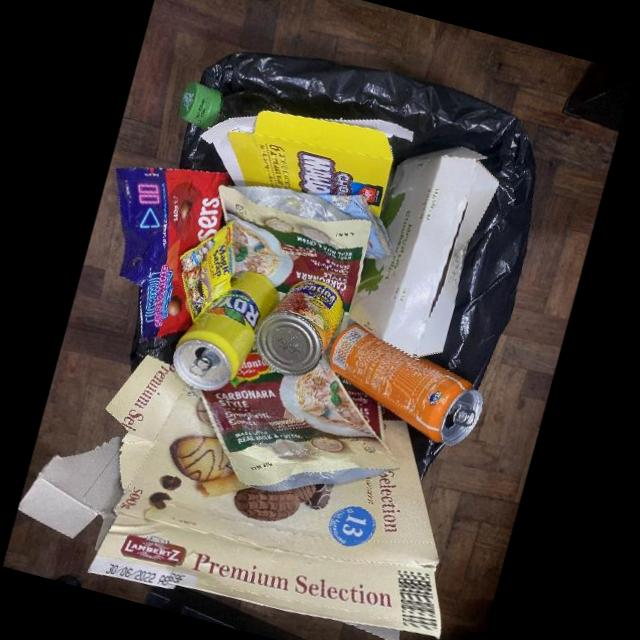bao_bi_thuc_pham: (196, 347, 402, 491), (218, 185, 371, 339), (114, 167, 234, 344)
carton: (18, 355, 440, 640), (347, 146, 499, 361), (199, 110, 413, 218)
goi_nhua_nho: (179, 220, 233, 323)
nhom: (329, 324, 482, 445), (173, 271, 278, 390), (255, 279, 343, 376)
